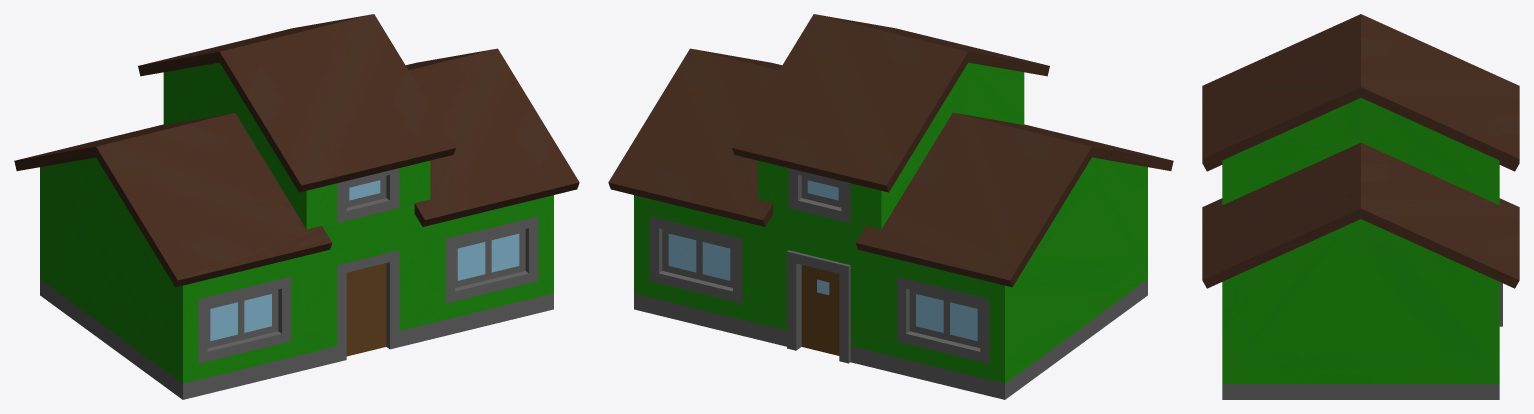
The model's file is house_type09.fbx.
3 renders of one model, left to right at view 1: azimuth 30°, elevation 25°; view 2: azimuth 150°, elevation 25°; view 3: azimuth 270°, elevation 25°, orthographic. The views are drawn at different scales.
Parts seen in each view (by area): view 1: house_type09; view 2: house_type09; view 3: house_type09.
Part boxes in pixels (left/top/right/bottom): house_type09: left=14, top=14, right=579, bottom=399; house_type09: left=608, top=14, right=1173, bottom=399; house_type09: left=1202, top=14, right=1519, bottom=399.
Bounding box in the file's own units: 13 × 8.34 × 9.16.
Materials: 1 (1 with a texture image).
